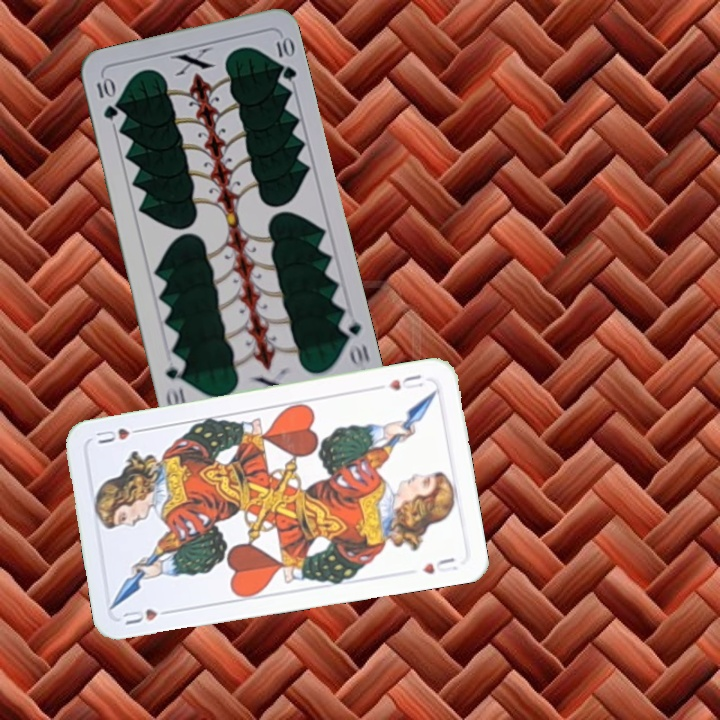G10: (335, 310, 372, 370), (92, 73, 120, 123)
HU: (119, 603, 177, 628), (384, 370, 426, 393)
